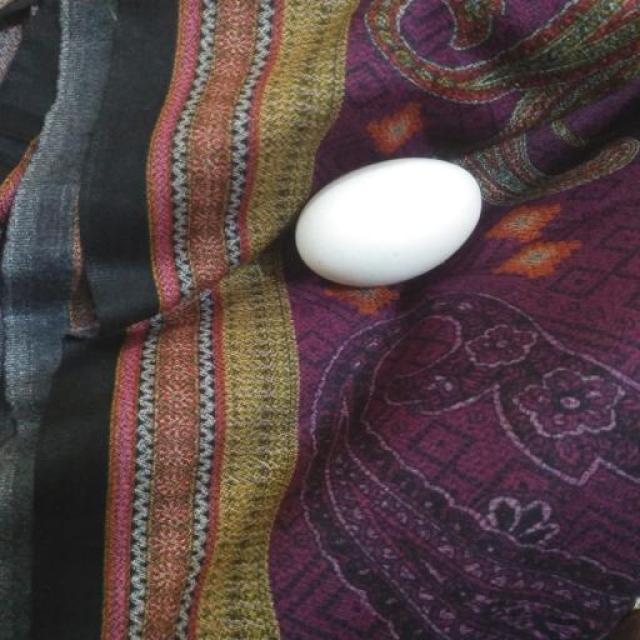telur: (294, 154, 487, 287)
